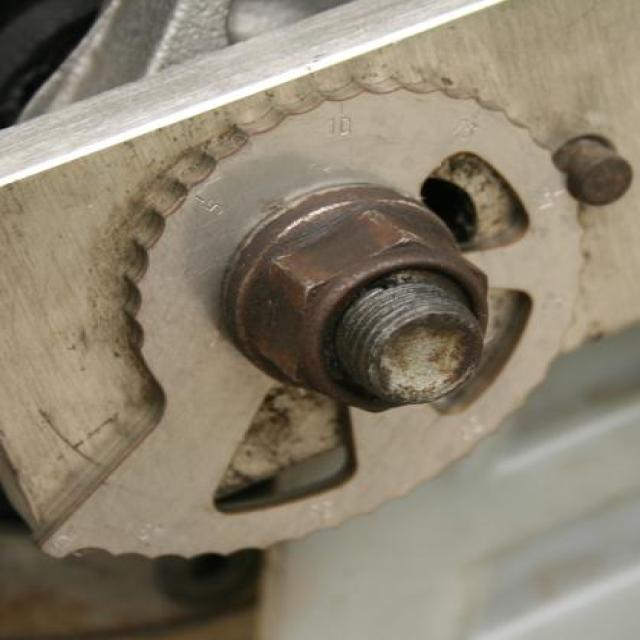bolt nut: (256, 206, 493, 415)
